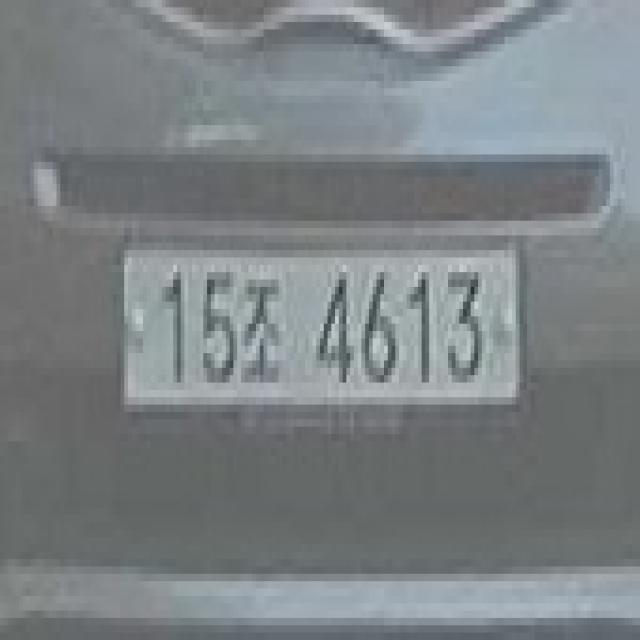1: (403, 264, 444, 404), (154, 258, 192, 398)
3: (440, 257, 486, 390)
4: (312, 258, 358, 404)
5: (199, 258, 241, 398)
6: (358, 264, 402, 404)
jo: (241, 265, 286, 397)
license_plate: (109, 228, 535, 456)
